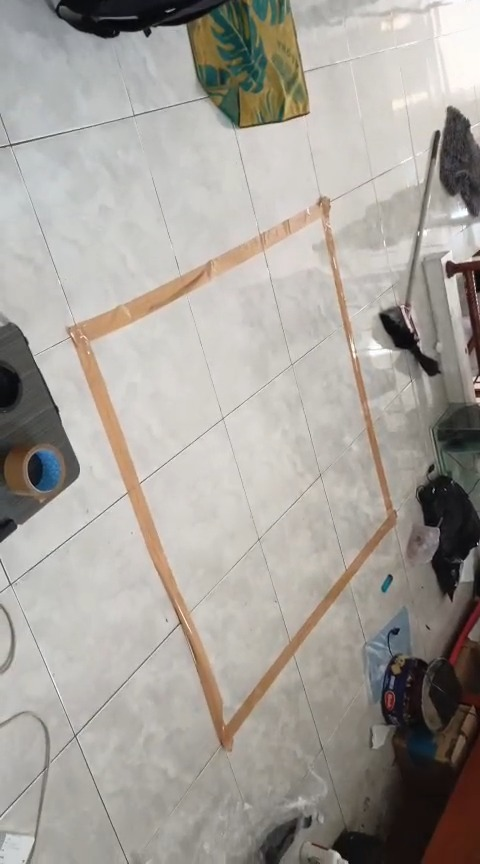floor marking: (70, 198, 395, 748)
